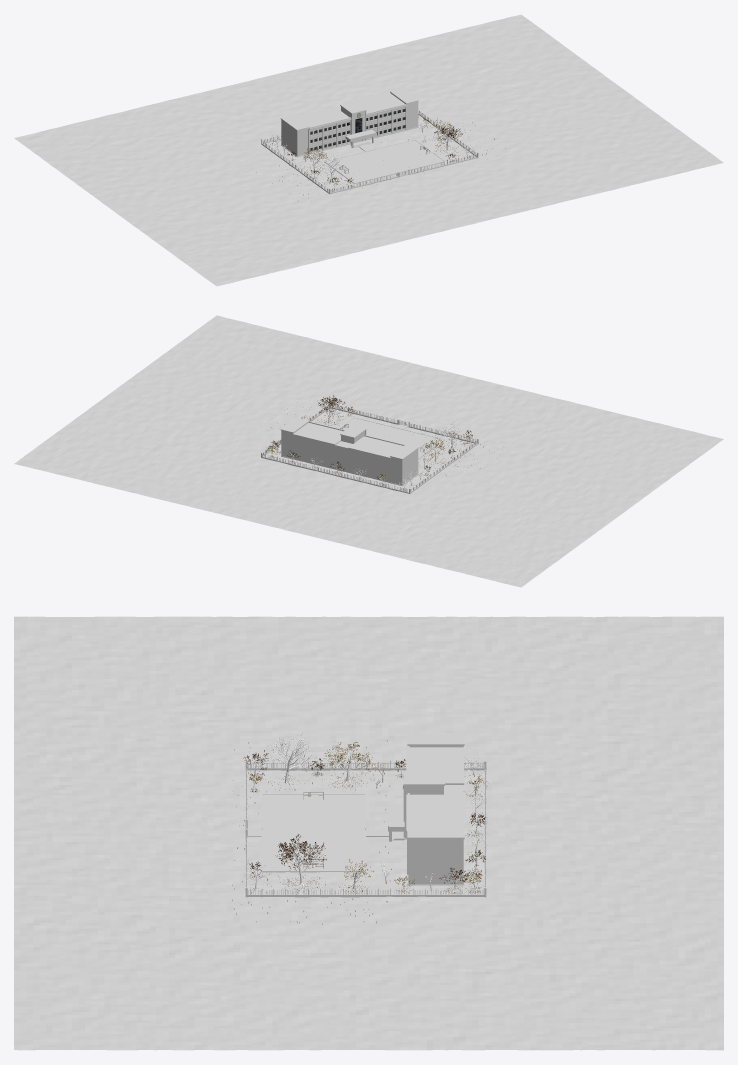
3 renders of one model, top to bottom at view 1: azimuth 30°, elevation 25°; view 2: azimuth 150°, elevation 25°; view 3: azimuth 270°, elevation 25°, orthographic. The views are drawn at different scales.
Visible parts, largest first — view 1: Ground, School_Concrete, Playground_Field, School_ConcreteDark, Fence_Front, Window_BrokenPanels; view 2: Ground, School_Concrete, School_ConcreteDark, Playground_Field, Fence_Back, Fence_Front; view 3: Ground, Playground_Field, School_ConcreteDark, School_Concrete, Fence_Right, Fence_Left, Playground_Edge, Tree_Big_Dry_06, Tree_Big_Bare_01, Tree_Big_Sparse_02.
Boxes of the visible parts, bbox=[...] form: Ground: bbox=[14, 14, 723, 286]; School_Concrete: bbox=[281, 93, 418, 156]; Playground_Field: bbox=[325, 140, 443, 182]; School_ConcreteDark: bbox=[280, 88, 418, 157]; Fence_Front: bbox=[329, 152, 478, 194]; Window_BrokenPanels: bbox=[310, 109, 405, 150]; Ground: bbox=[14, 315, 723, 587]; School_Concrete: bbox=[281, 421, 418, 485]; School_ConcreteDark: bbox=[280, 417, 418, 486]; Playground_Field: bbox=[340, 418, 443, 458]; Fence_Back: bbox=[261, 452, 410, 493]; Fence_Front: bbox=[329, 404, 478, 444]; Ground: bbox=[14, 616, 723, 1050]; Playground_Field: bbox=[262, 794, 364, 870]; School_ConcreteDark: bbox=[388, 733, 464, 885]; School_Concrete: bbox=[388, 746, 463, 883]; Fence_Right: bbox=[247, 888, 484, 897]; Fence_Left: bbox=[247, 761, 484, 770]; Playground_Edge: bbox=[247, 793, 388, 872]; Tree_Big_Dry_06: bbox=[275, 834, 326, 885]; Tree_Big_Bare_01: bbox=[270, 732, 316, 783]; Tree_Big_Sparse_02: bbox=[324, 742, 378, 782].
Size of the model in its own units: 26000 by 2303 by 18000.
